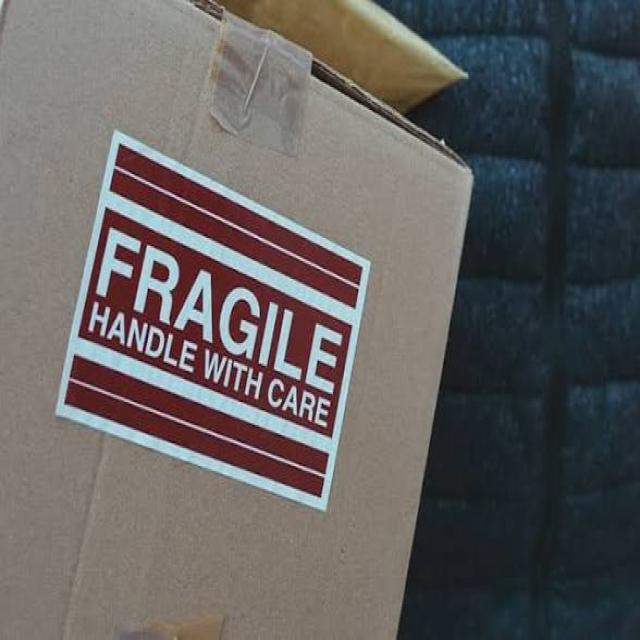fragile_label: (73, 119, 366, 510)
